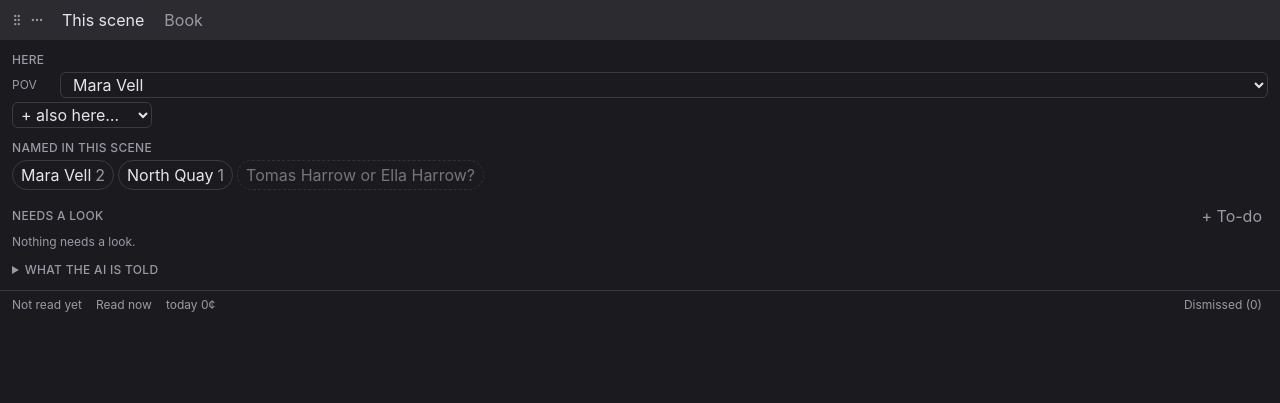
Test: ThisScenePanel (F-16.12) › adds a to-do about a record, and shows both its links
Expected: the element with test id "named-chips" is shown, top-left (12, 160), bottom-right (484, 190)
Click the button with aria-label "Add a to-do".
click(1232, 216)  # box top-left (1196, 202), bottom-right (1268, 230)
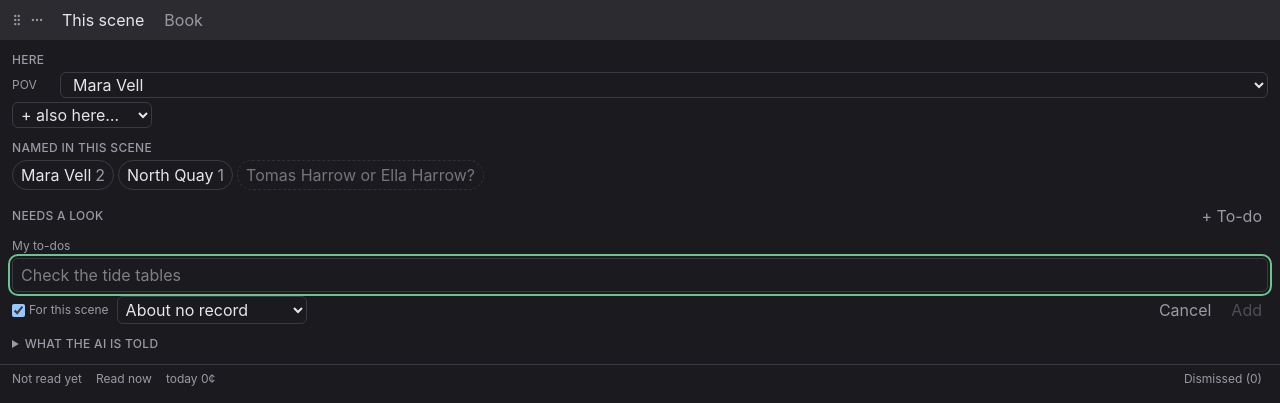
Type "Her eyes" into the field named "New to-do".
click(640, 275); type("Her eyes")  # box top-left (12, 258), bottom-right (1268, 292)
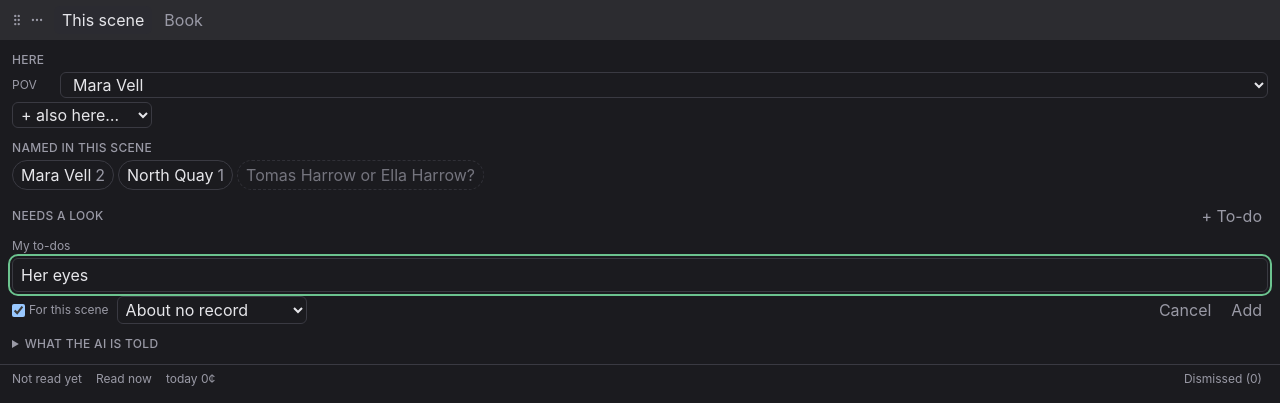
Select "About Mara Vell" in the dropdown named "About a record" at (212, 310), box top-left (117, 296), bottom-right (307, 324)
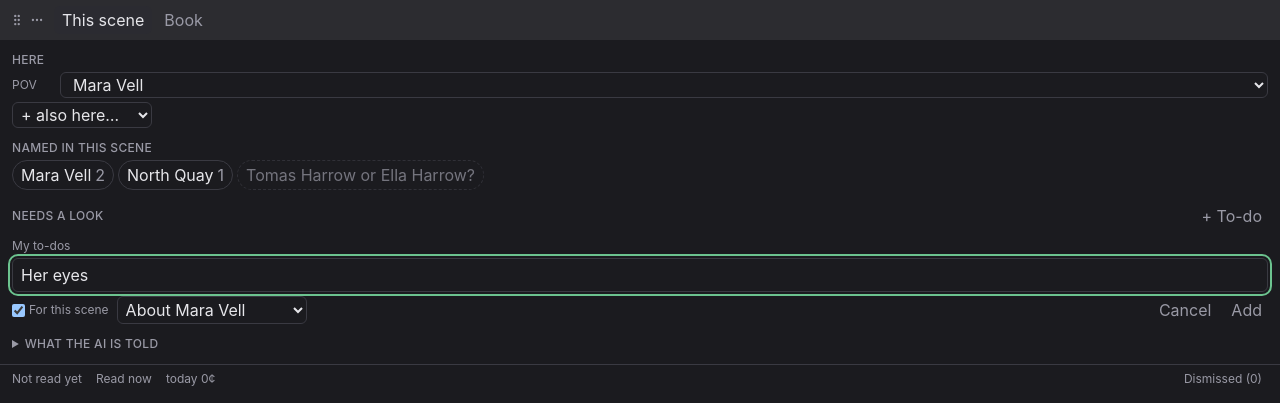
Click the button "Add".
click(1247, 310)  # box top-left (1225, 296), bottom-right (1268, 324)
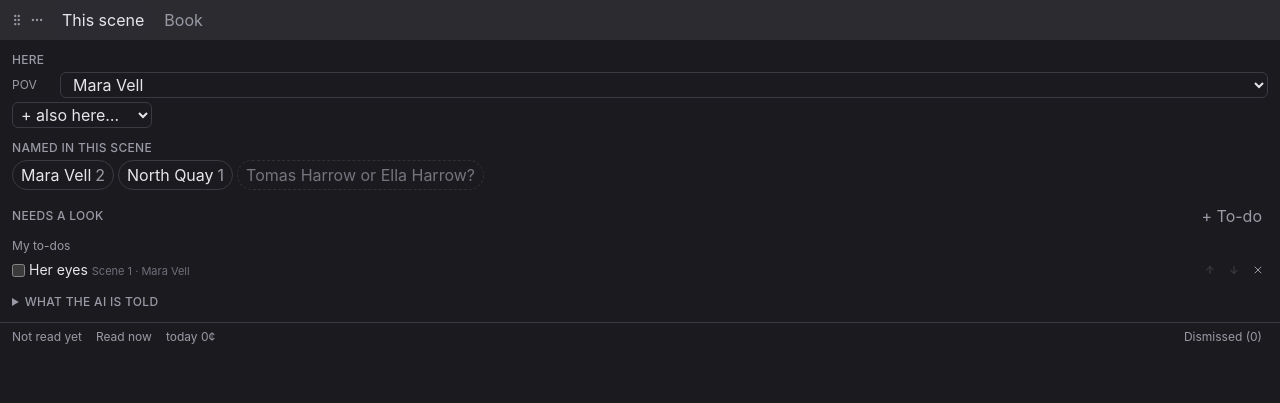
Result: the checkbox named "Done: Her eyes" is shown at top-left (12, 264), bottom-right (25, 276)
Result: the list item named "Done: Her eyes" shows "· Mara Vell" at top-left (92, 264), bottom-right (190, 278)
